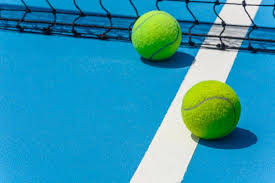tennis_ball: (182, 80, 241, 141), (131, 9, 182, 62)
